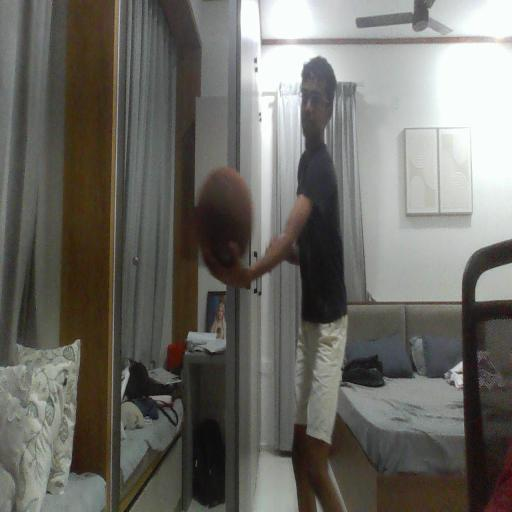basketball: (195, 168, 252, 267)
